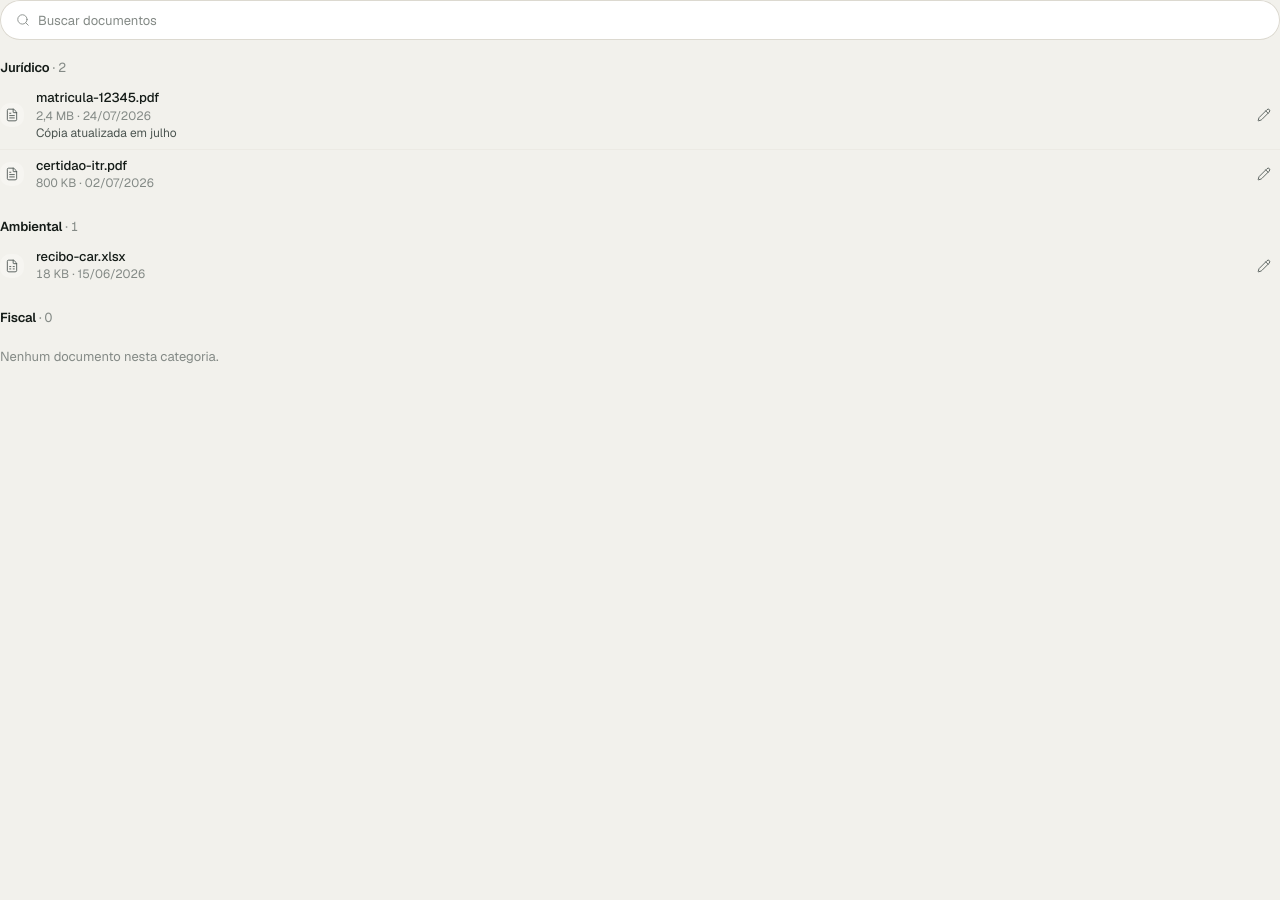
Test: DocumentManager — ações › renomeia e edita a nota, com os valores atuais preenchidos
Click the button named "Editar matricula-12345.pdf" at {"x": 1264, "y": 115}, box left=1248, top=99, right=1279, bottom=131
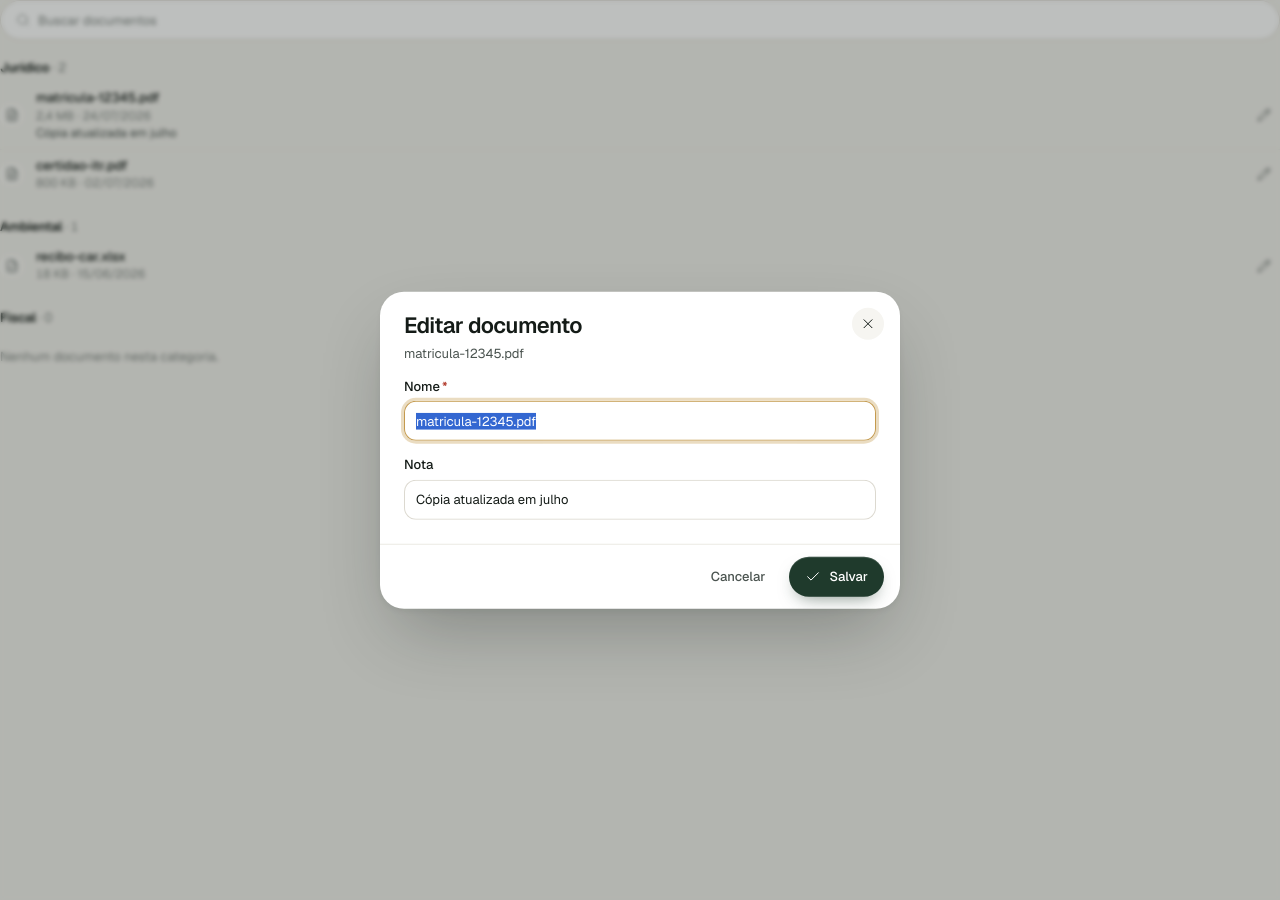
Check: the field labelled "Nome" holds "matricula-12345.pdf"
Check: the field labelled "Nota" holds "Cópia atualizada em julho", box left=416, top=479, right=864, bottom=519
Replace the text in the field labelled "Nome" with "matricula-atualizada.pdf" at {"x": 640, "y": 421}, box left=416, top=401, right=864, bottom=441
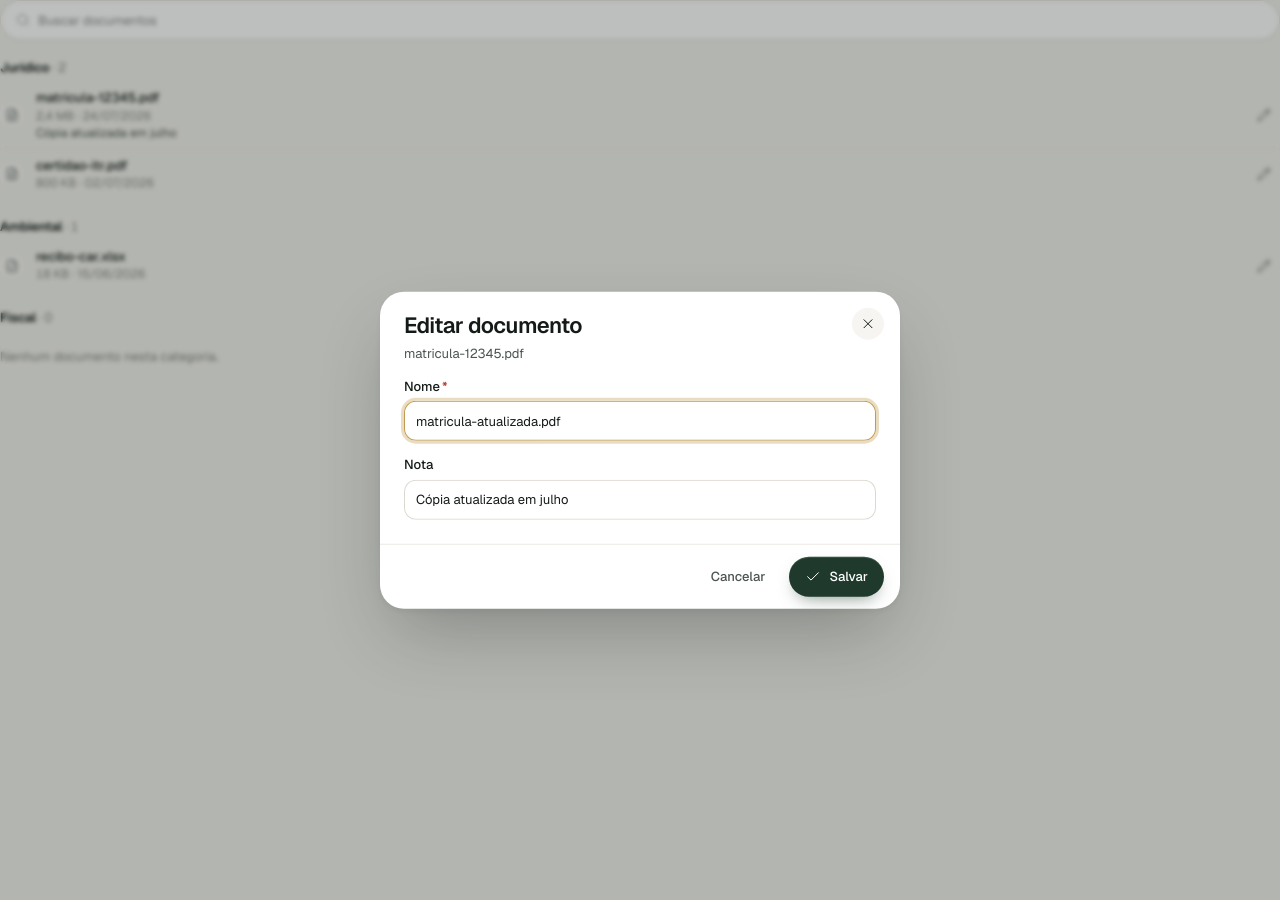
Replace the text in the field labelled "Nota" with "Registro de 2026" at {"x": 640, "y": 499}, box left=416, top=479, right=864, bottom=519
Then press Enter
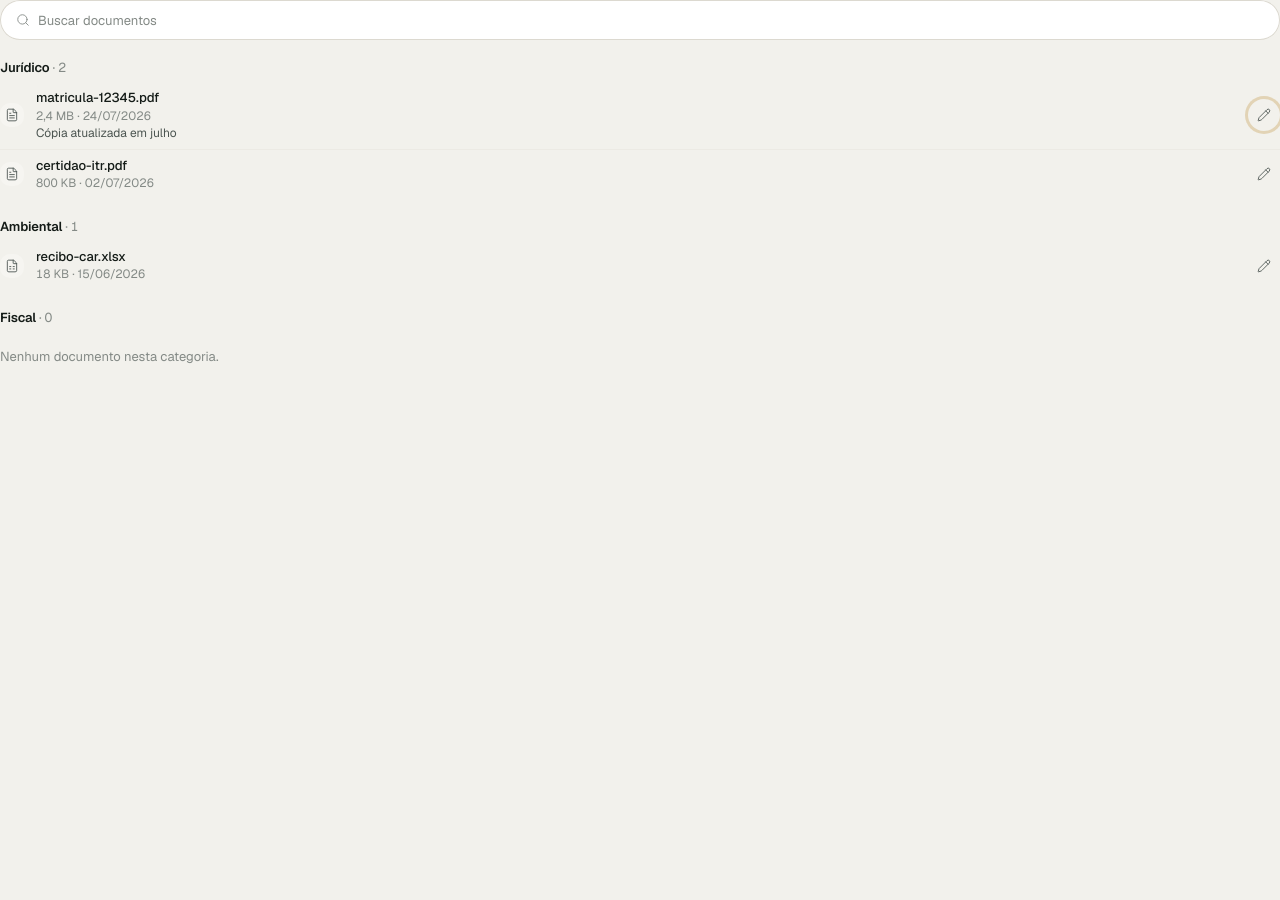
Check: the dialog is gone
